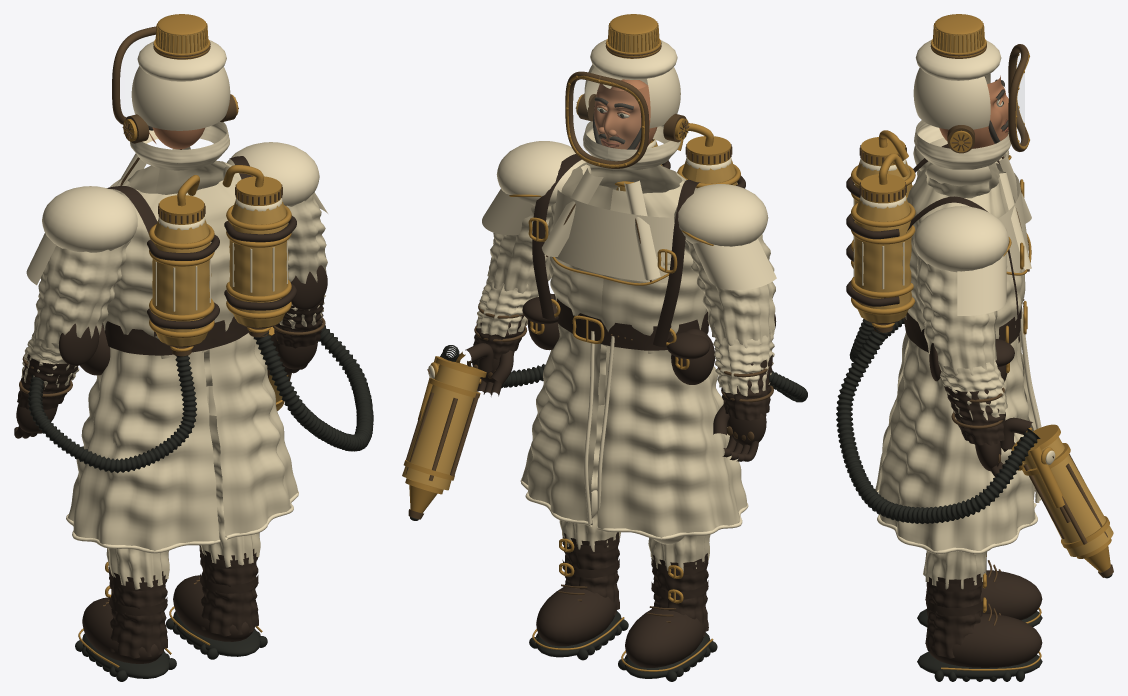
3 renders of one model, left to right at view 1: azimuth 30°, elevation 25°; view 2: azimuth 150°, elevation 25°; view 3: azimuth 270°, elevation 25°, orthographic. The views are drawn at different scales.
Parts seen in each view (by area): view 1: cape-ivory-rubberized-coat, head-ivory-protective-plate, torso-ochre-enamel, torso-ivory-rubberized-coat, arm-left-ivory-rubberized-coat, torso-brown-leather-straps-boots, torso-machined-brass, leg-left-brown-leather-straps-boots, arm-left-ivory-protective-plate, leg-right-brown-leather-straps-boots, arm-right-ribbed-rubber, torso-ribbed-rubber (+15 smaller); view 2: cape-ivory-rubberized-coat, torso-ivory-rubberized-coat, torso-ivory-protective-plate, torso-brown-leather-straps-boots, arm-left-ivory-protective-plate, arm-left-ivory-rubberized-coat, leg-right-brown-leather-straps-boots, leg-left-brown-leather-straps-boots, head-ivory-protective-plate, arm-right-ivory-protective-plate, arm-right-ivory-rubberized-coat, arm-right-ochre-enamel (+18 smaller); view 3: cape-ivory-rubberized-coat, head-ivory-protective-plate, arm-right-ivory-rubberized-coat, arm-right-ivory-protective-plate, leg-right-brown-leather-straps-boots, arm-right-ribbed-rubber, torso-machined-brass, torso-ochre-enamel, torso-ivory-rubberized-coat, torso-brown-leather-straps-boots, arm-right-brown-leather-straps-boots, arm-right-ochre-enamel (+15 smaller).
Part boxes in pixels (x1,y1,x2,y2): cape-ivory-rubberized-coat: (68,333,298,552); head-ivory-protective-plate: (130,40,230,170); torso-ochre-enamel: (152,201,288,346); torso-ivory-rubberized-coat: (103,160,241,358); arm-left-ivory-rubberized-coat: (21,239,131,389); torso-brown-leather-straps-boots: (80,156,296,375); torso-machined-brass: (149,165,291,351); leg-left-brown-leather-straps-boots: (82,567,167,663); arm-left-ivory-protective-plate: (26,186,137,285); leg-right-brown-leather-straps-boots: (173,545,258,641); arm-right-ribbed-rubber: (253,321,373,451); torso-ribbed-rubber: (28,355,196,473); cape-ivory-rubberized-coat: (521,324,747,539); torso-ivory-rubberized-coat: (548,162,707,353); torso-ivory-protective-plate: (542,139,731,282); torso-brown-leather-straps-boots: (522,154,745,384); arm-left-ivory-protective-plate: (674,184,776,290); arm-left-ivory-rubberized-coat: (684,234,775,396); leg-right-brown-leather-straps-boots: (536,532,619,646); leg-left-brown-leather-straps-boots: (625,553,708,667); head-ivory-protective-plate: (583,39,680,169); arm-right-ivory-protective-plate: (428,141,591,378); arm-right-ivory-rubberized-coat: (476,191,552,337); arm-right-ochre-enamel: (402,364,480,490); cape-ivory-rubberized-coat: (875,333,1040,551); head-ivory-protective-plate: (913,40,1010,169); arm-right-ivory-rubberized-coat: (917,255,1007,420); arm-right-ivory-protective-plate: (913,206,1055,464); leg-right-brown-leather-straps-boots: (925,572,1042,667); arm-right-ribbed-rubber: (836,327,1112,578); torso-machined-brass: (851,130,1031,373); torso-ochre-enamel: (854,161,911,322); torso-ivory-rubberized-coat: (905,162,1025,338); torso-brown-leather-straps-boots: (846,144,1021,381); arm-right-brown-leather-straps-boots: (929,343,1032,477); arm-right-ochre-enamel: (1023,437,1113,556).
Size of the model in its own units: 1.18 by 2.05 by 0.8227.
